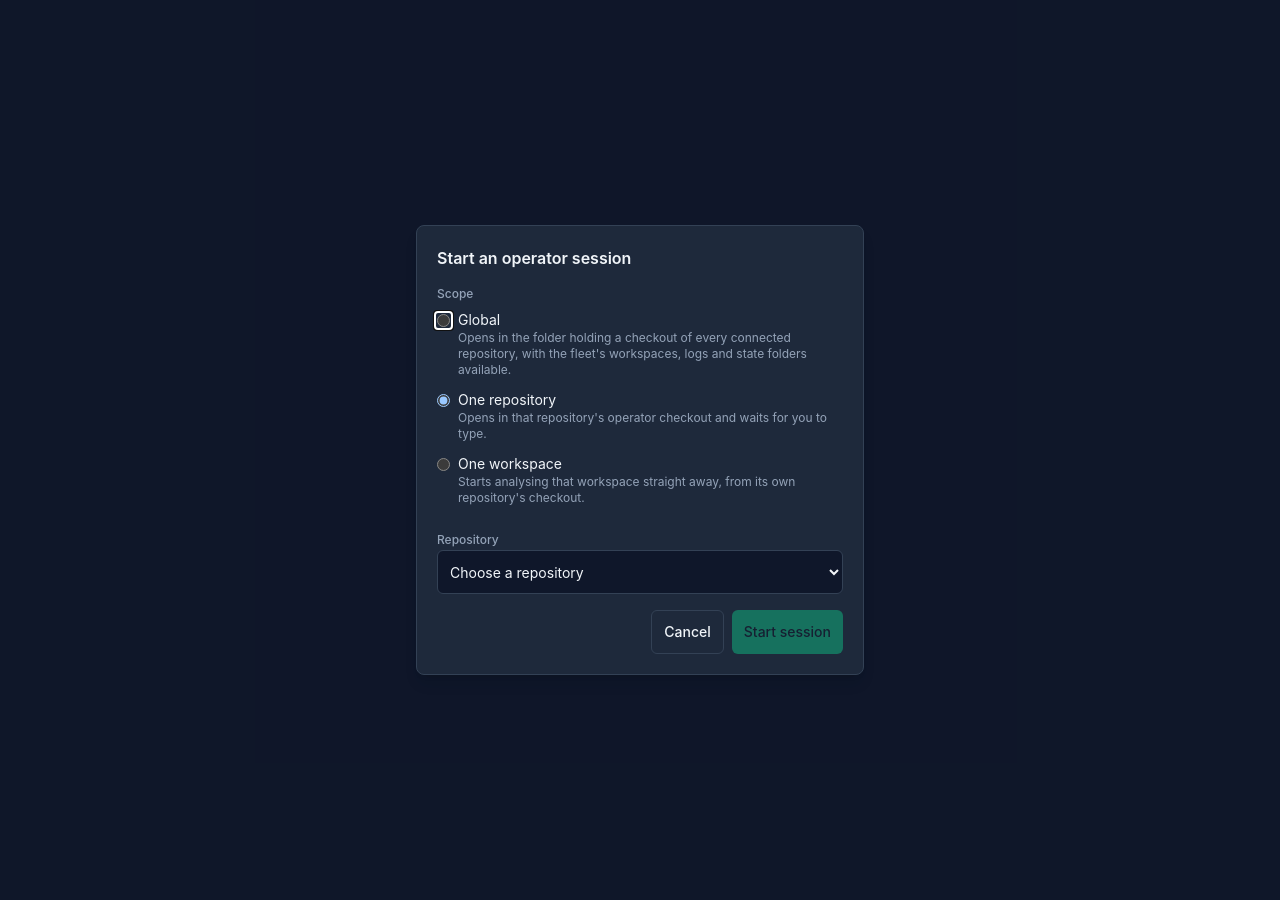
Test: ScopePickerDialog — choosing a scope › keeps the picked repository when the scope is switched away and back
Select "acme/gadget" in the dropdown with test id "operator-target" at (640, 572), box [437,550,843,594]
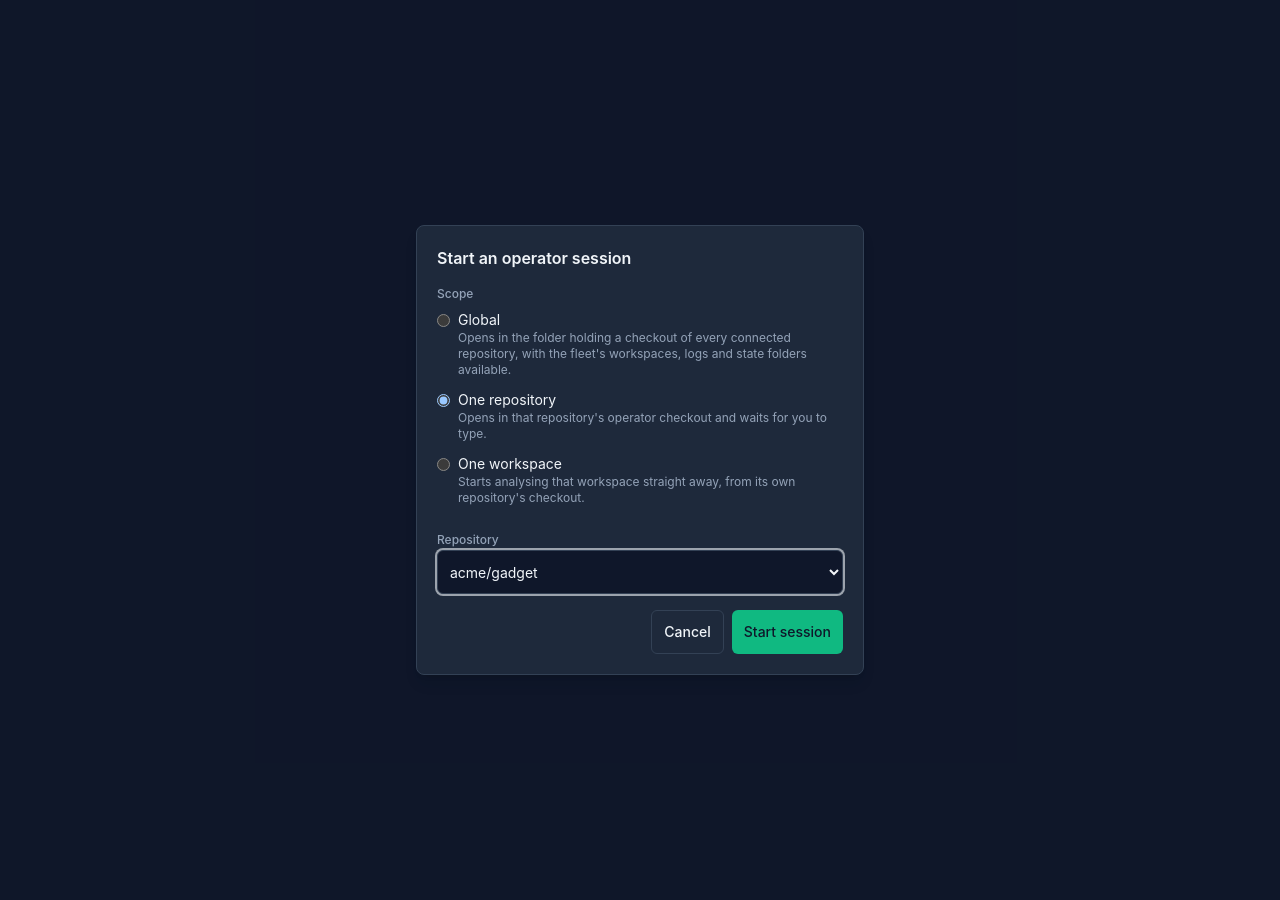
Click the radio button with test id "operator-scope-fleet" at (444, 320), box [437,314,450,327]
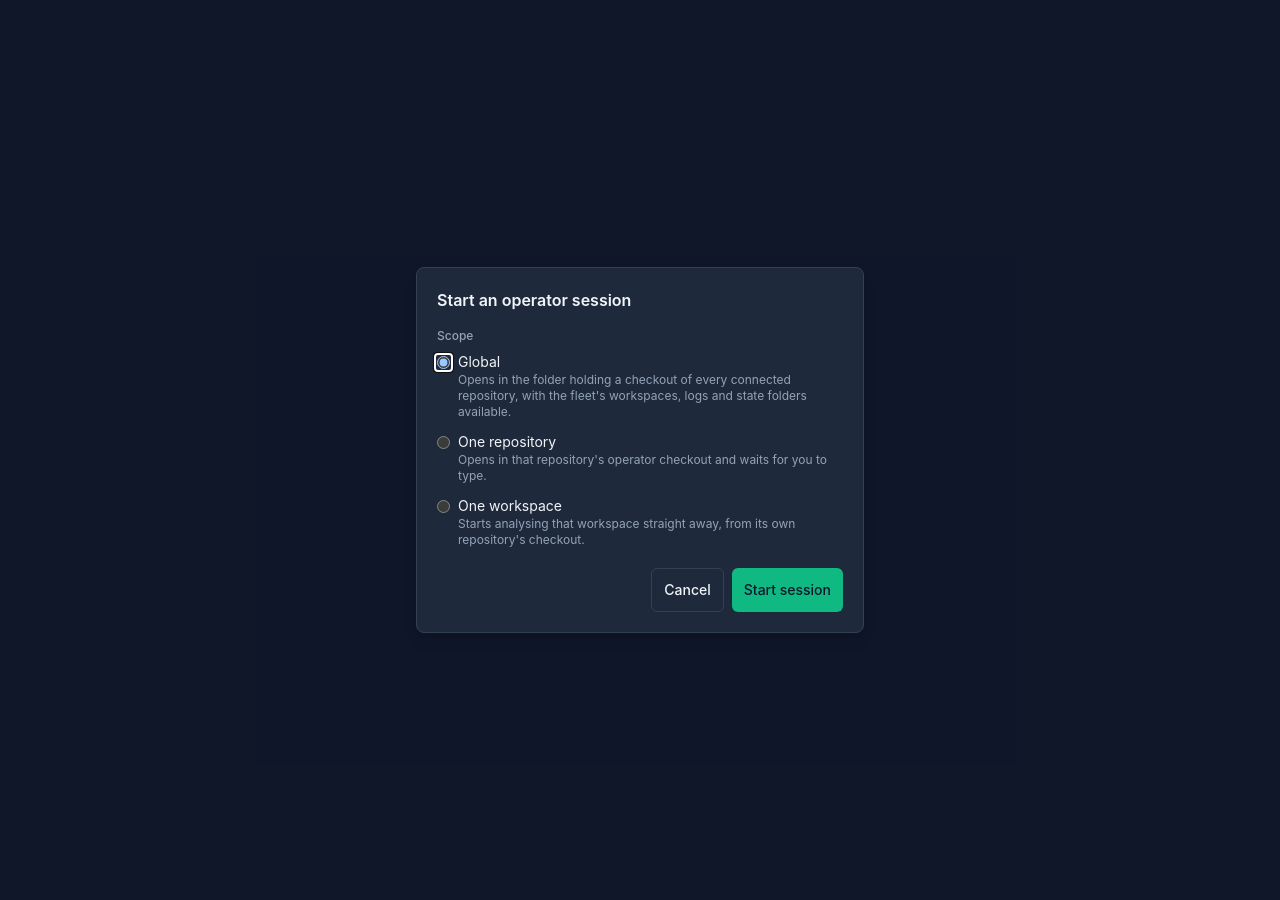
Click the radio button with test id "operator-scope-repo" at (444, 442), box [437,436,450,449]
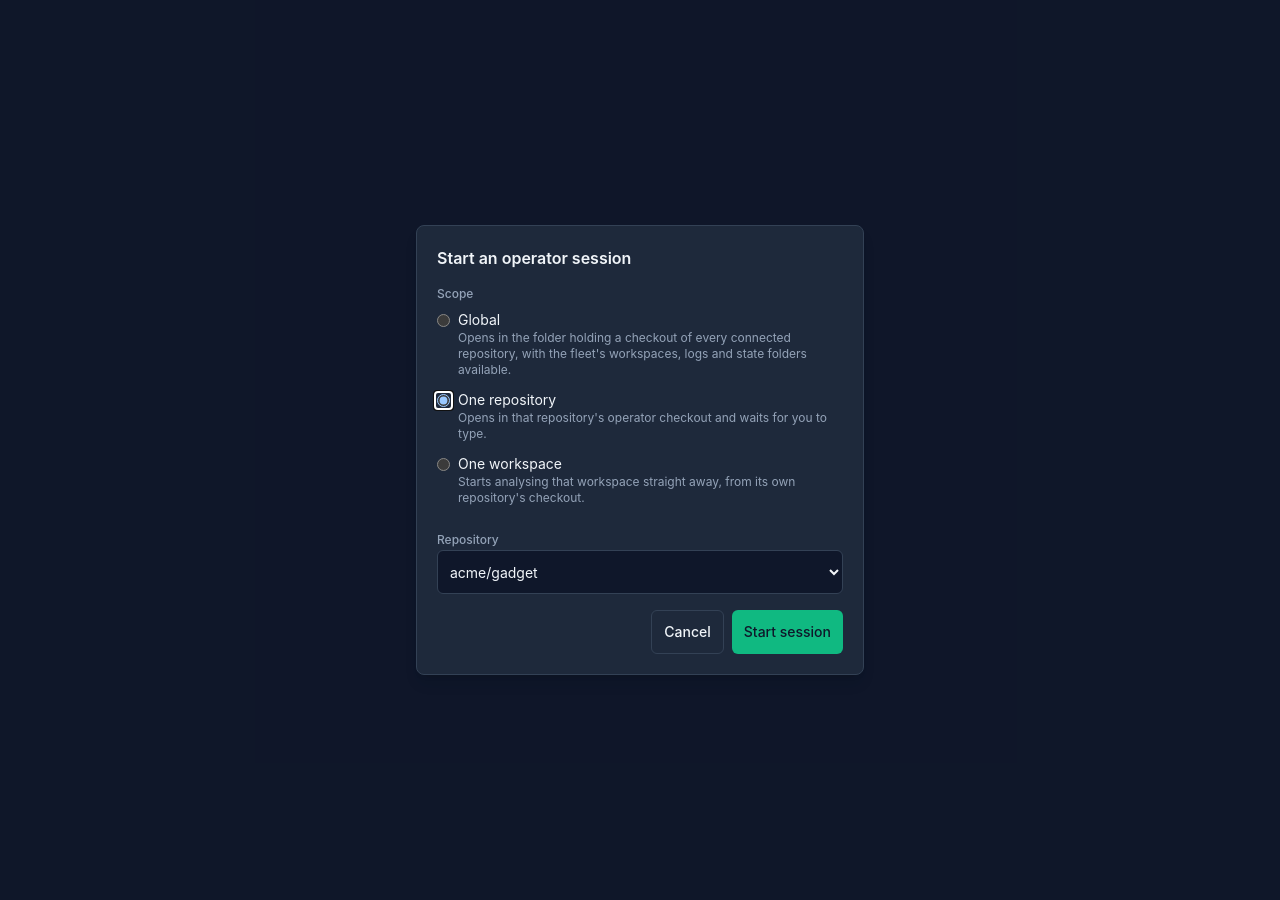
expect the dropdown with test id "operator-target" shows "acme/gadget": met, box [437,550,843,594]
